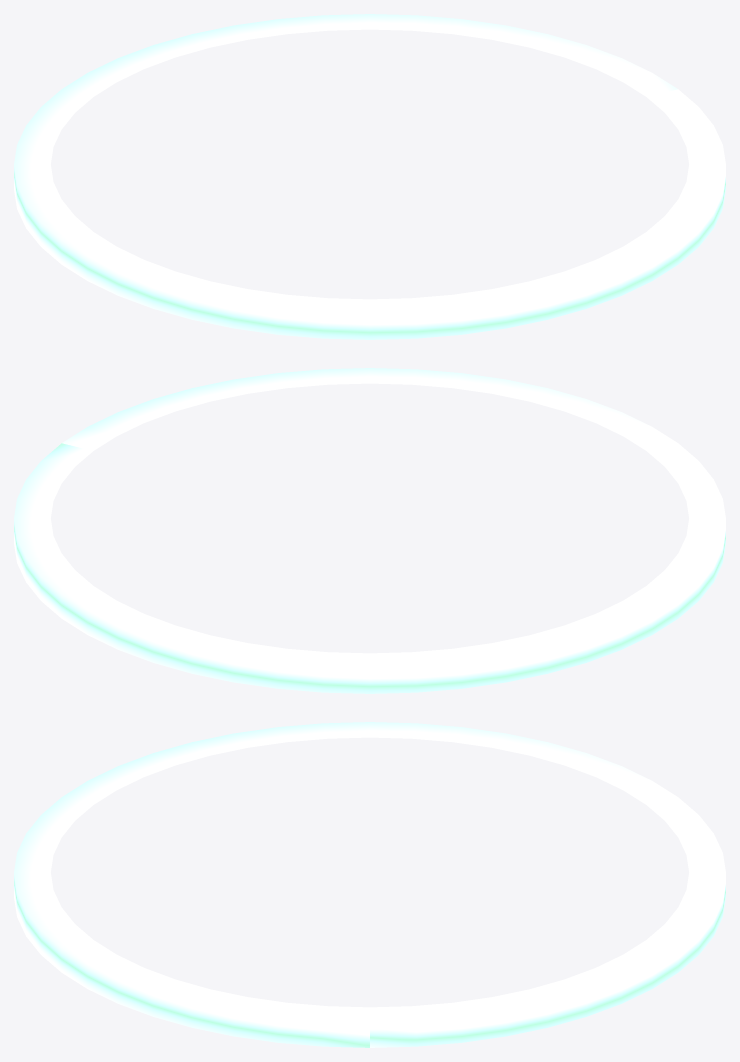
File: ring_ok.glb
The picture shows the model from 3 angles, top to bottom: view 1: azimuth 30°, elevation 25°; view 2: azimuth 150°, elevation 25°; view 3: azimuth 270°, elevation 25°; orthographic projection.
Parts seen in each view (by area): view 1: ring; view 2: ring; view 3: ring.
Boxes of the visible parts, box(x1,y1,x2,y2) form: ring: box(14, 14, 725, 339); ring: box(14, 368, 725, 693); ring: box(14, 722, 725, 1047).
Bounding box in the file's own units: 4.64 × 0.18 × 4.64.
